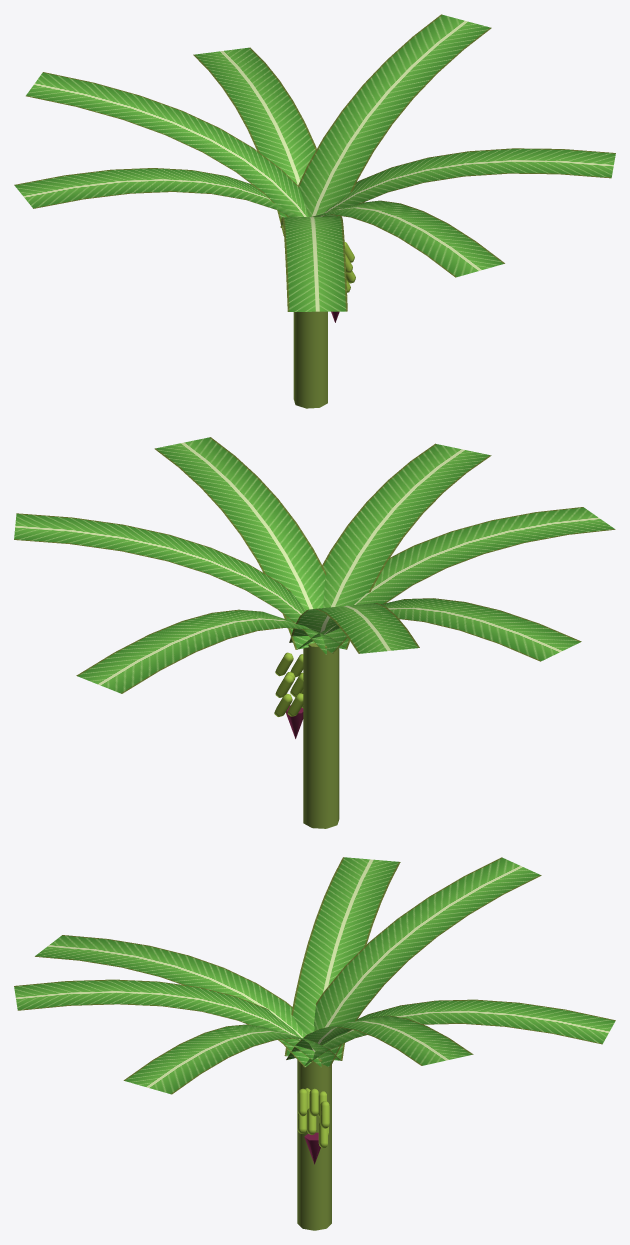
The model's file is chuoi_1.glb.
3 views of the same model, one above another, from view 1: azimuth 30°, elevation 25°; view 2: azimuth 150°, elevation 25°; view 3: azimuth 270°, elevation 25° (orthographic). The views are drawn at different scales.
Parts seen in each view (by area): view 1: chuoi_1; view 2: chuoi_1; view 3: chuoi_1.
Part boxes in pixels (x1,y1,x2,y2): chuoi_1: [14, 14, 615, 408]; chuoi_1: [14, 437, 615, 828]; chuoi_1: [14, 857, 615, 1230].
Size of the model in its own units: 1.63 by 0.8782 by 1.74.
13 materials, 1 textured.
